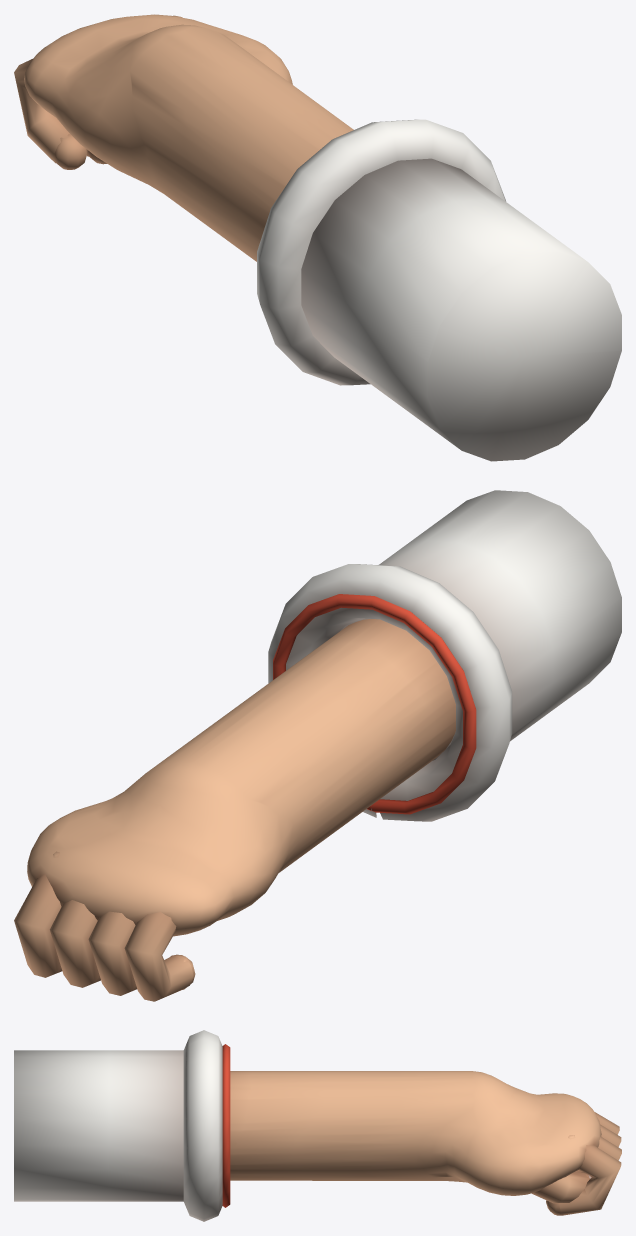
File: fp-hand-left-grip.gltf
The picture shows the model from 3 angles, top to bottom: view 1: azimuth 30°, elevation 25°; view 2: azimuth 150°, elevation 25°; view 3: azimuth 270°, elevation 25°; orthographic projection. The views are drawn at different scales.
Visible parts, largest first — view 1: model; view 2: model; view 3: model.
Boxes of the visible parts, x1=… form: model: x1=14, y1=14, x2=621, y2=461; model: x1=14, y1=490, x2=621, y2=1001; model: x1=14, y1=1030, x2=621, y2=1221.
Size of the model in its own units: 0.1533 by 0.1518 by 0.4799.
